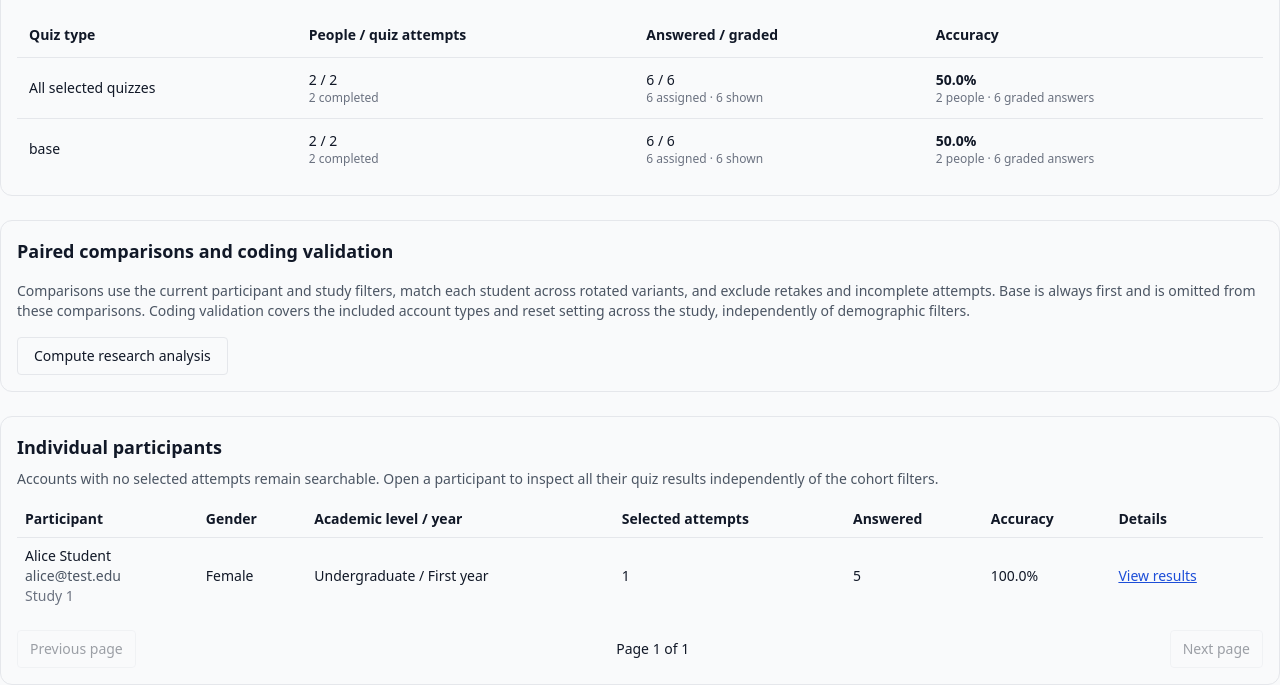
Test: opens an individual participant and their question transcript
This screenshot has width=1280, height=685.
(page scrolled)
Click the button with aria-label "View results for Alice Student" at (1158, 576), box x1=1118 y1=566 x2=1197 y2=586
(page scrolled)
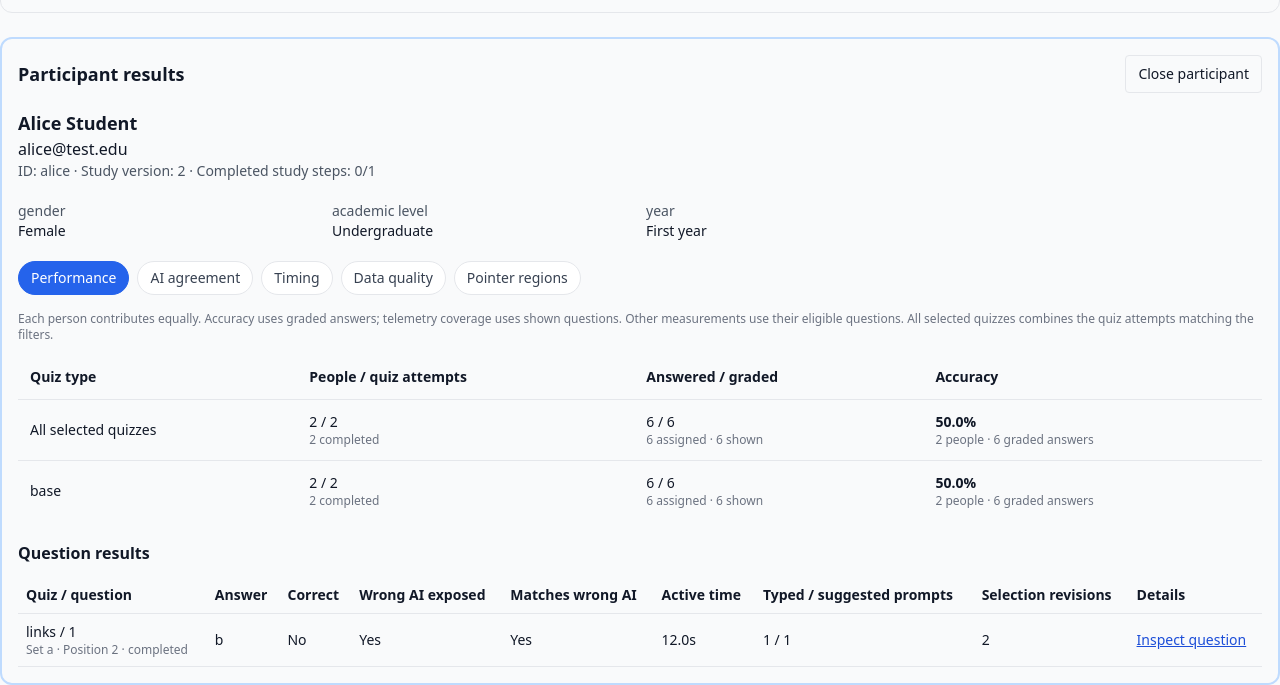
Click the button with aria-label "Inspect links question 1" at (1191, 640), box x1=1136 y1=630 x2=1246 y2=650
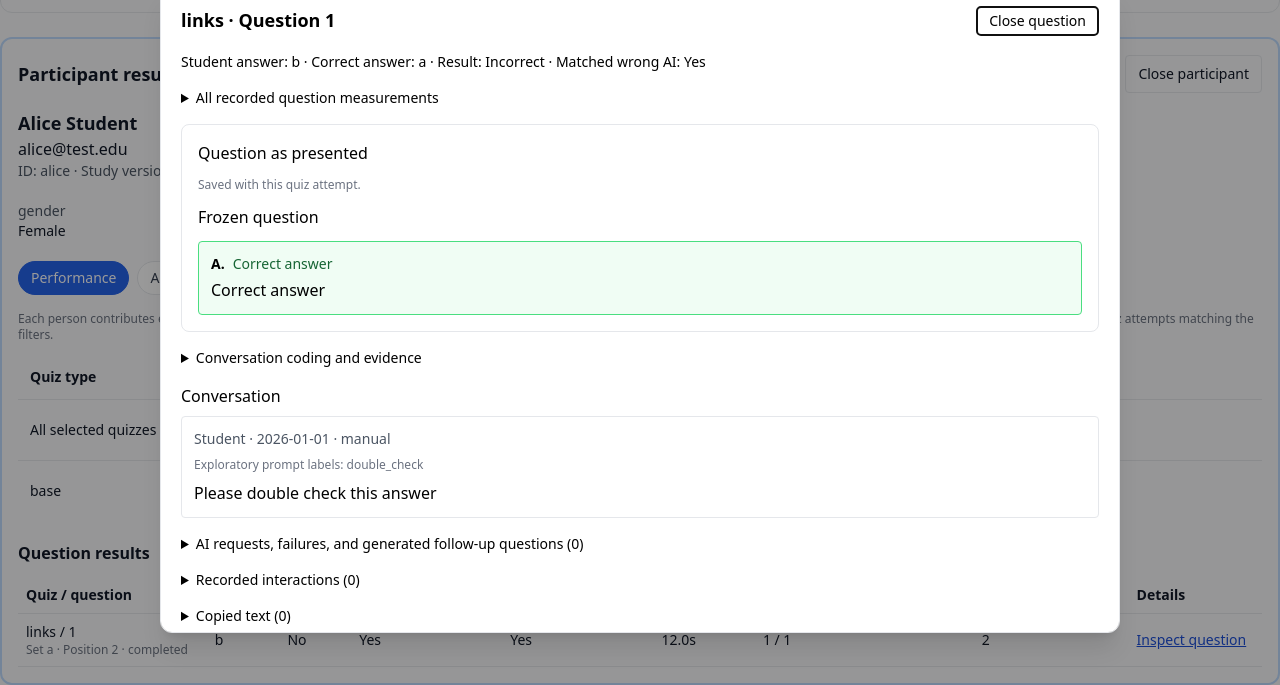
expect the text "Please double check this answer" is shown: met, box x1=194 y1=482 x2=436 y2=504
expect the text "Exploratory prompt labels: double_check" is shown: met, box x1=194 y1=456 x2=423 y2=473
